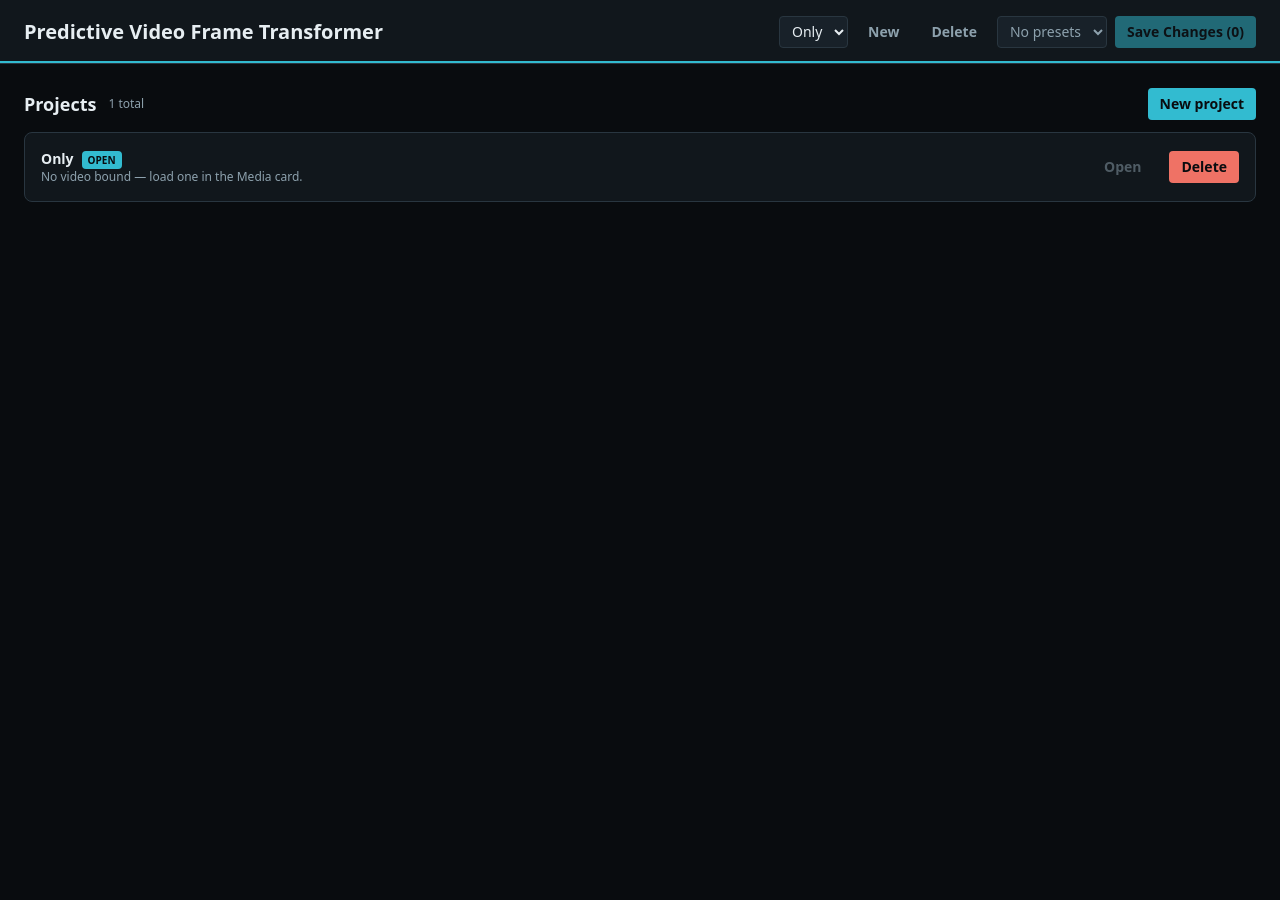
Scenario: projects overview › creates a replacement when the last project is deleted
The width and height of the screenshot is (1280, 900).
expect the number of elements with test id "project-row" is 1: met, box [24,132,1256,202]
Step 1. Click the button "Delete" in the row of "Only" → x=1204, y=167, box [1170,151,1239,183]
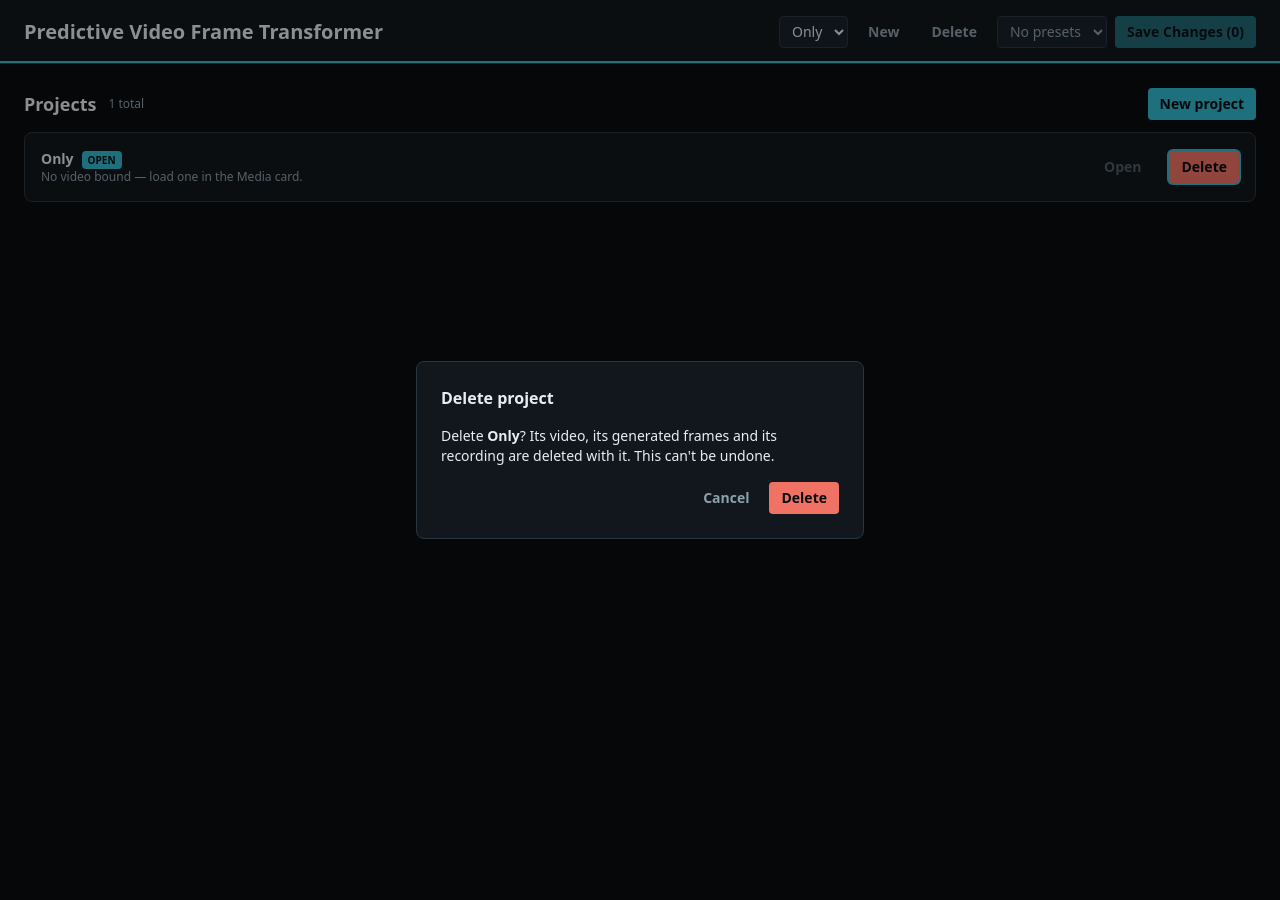
Step 2. Click the button with test id "btn-confirm-delete-project" → x=804, y=498, box [770,482,839,514]
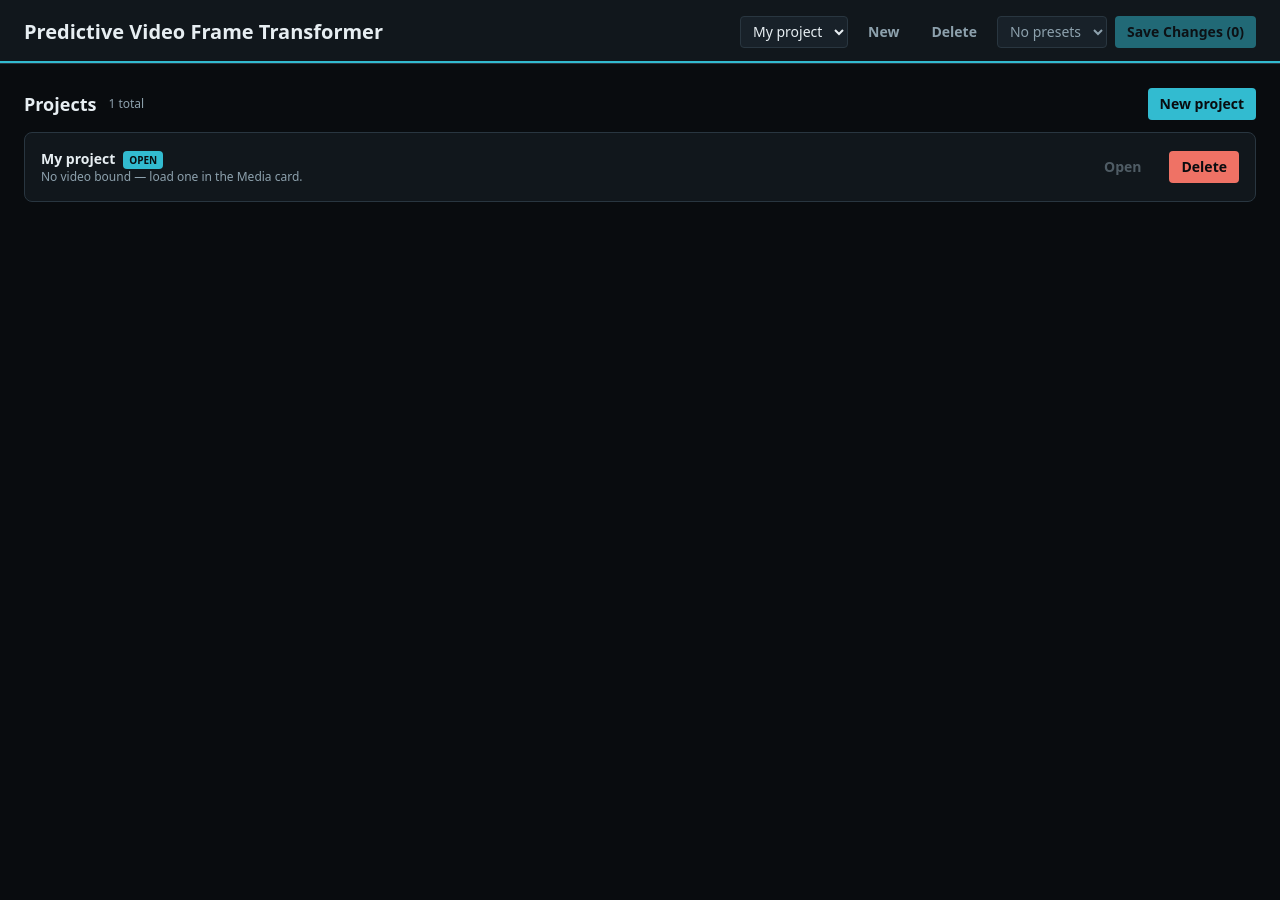
expect the dropdown named "Project" shows "My project": met, box [740,16,848,48]
